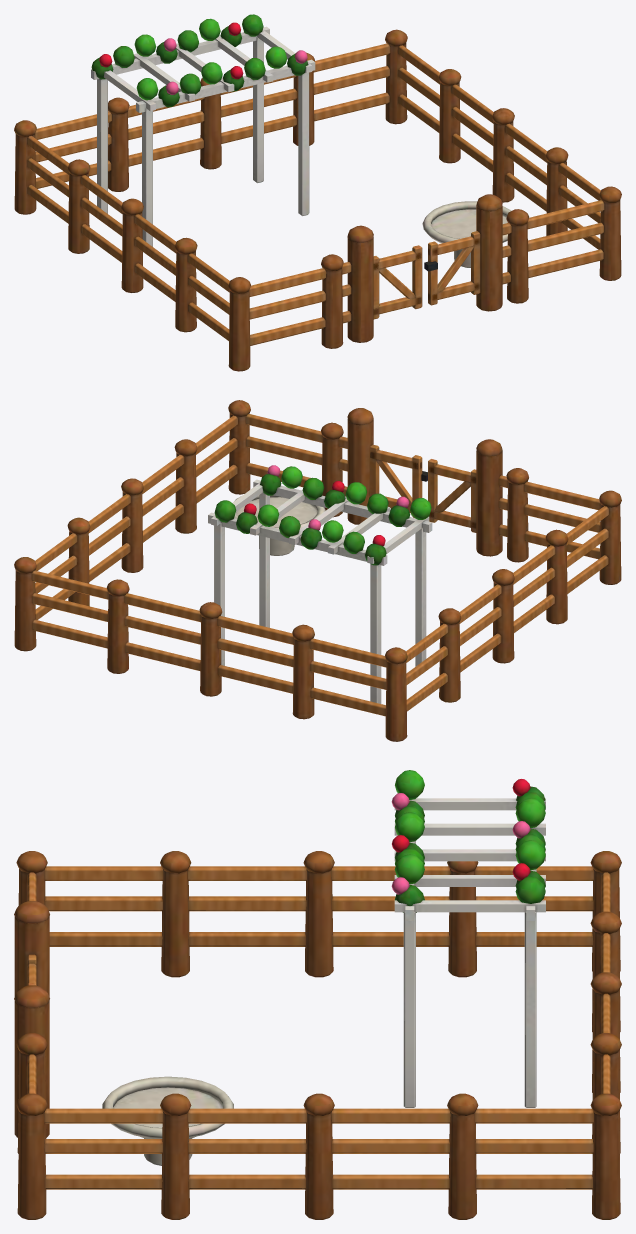
Rendered from white_peacock_garden.glb.
The picture shows the model from 3 angles, top to bottom: view 1: azimuth 30°, elevation 25°; view 2: azimuth 150°, elevation 25°; view 3: azimuth 270°, elevation 25°; orthographic projection. The views are drawn at different scales.
Visible parts, largest first — view 1: white_peacock_garden, gate1, gate0; view 2: white_peacock_garden, gate0, gate1; view 3: white_peacock_garden.
Part boxes in pixels (bbox=[...]): white_peacock_garden: bbox=[14, 14, 621, 371]; gate1: bbox=[424, 231, 480, 305]; gate0: bbox=[373, 245, 422, 319]; white_peacock_garden: bbox=[14, 400, 621, 741]; gate0: bbox=[428, 459, 476, 532]; gate1: bbox=[370, 444, 427, 517]; white_peacock_garden: bbox=[14, 770, 621, 1219].
Size of the model in its own units: 2 by 0.85 by 2.01.
Materials: 1 (1 with a texture image).
